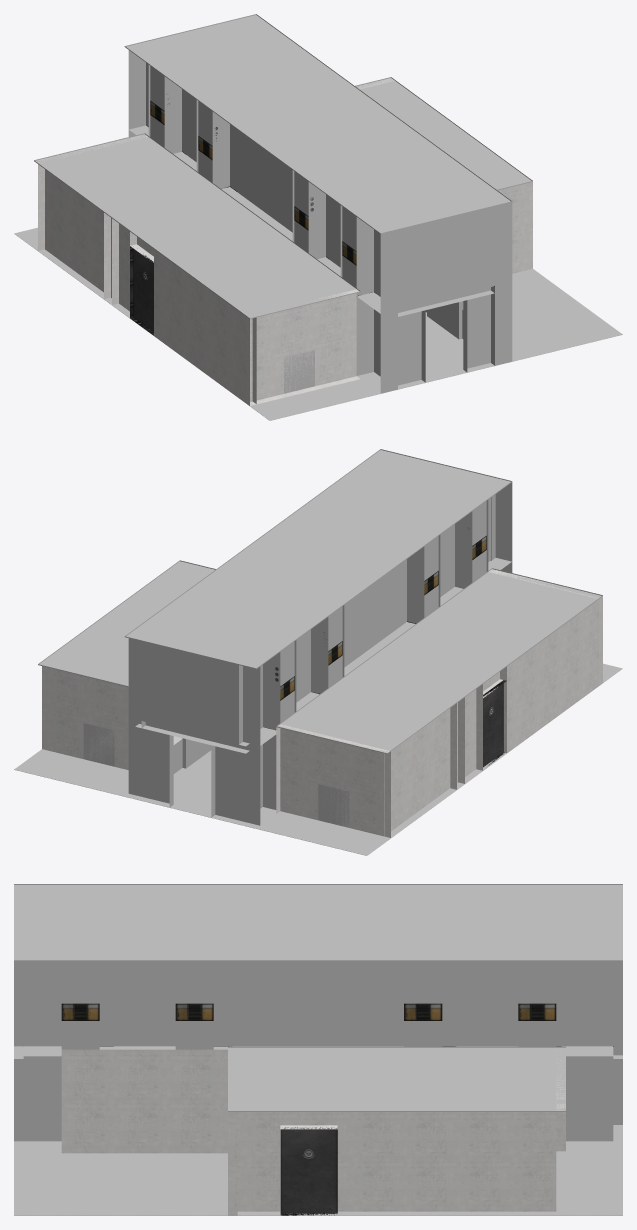
File: LC_cont2_scps.obj
3 renders of one model, top to bottom at view 1: azimuth 30°, elevation 25°; view 2: azimuth 150°, elevation 25°; view 3: azimuth 270°, elevation 25°, orthographic. The views are drawn at different scales.
Parts seen in each view (by area): view 1: LC_room2_scps; view 2: LC_room2_scps; view 3: LC_room2_scps.
Part boxes in pixels (x1,y1,x2,y2): LC_room2_scps: (14,14,622,420); LC_room2_scps: (14,449,622,855); LC_room2_scps: (14,884,622,1215).
Size of the model in its own units: 16.32 by 7.09 by 20.48.
